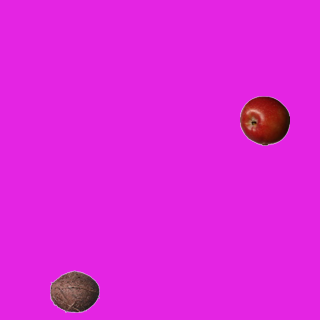Apple Braeburn: (239, 95, 289, 145)
Cocos: (49, 266, 99, 316)
